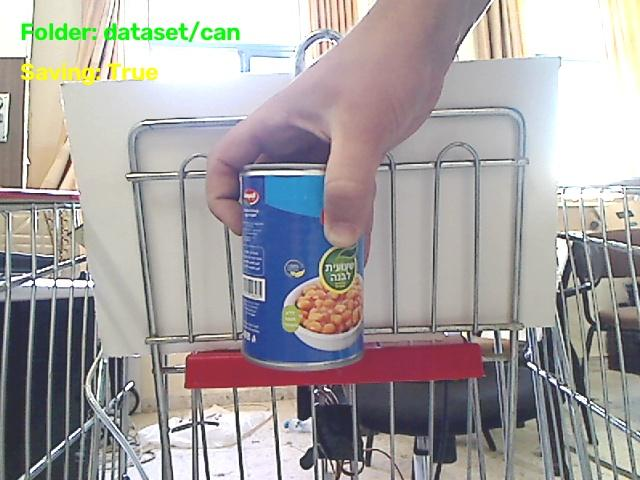can: (241, 164, 363, 369)
